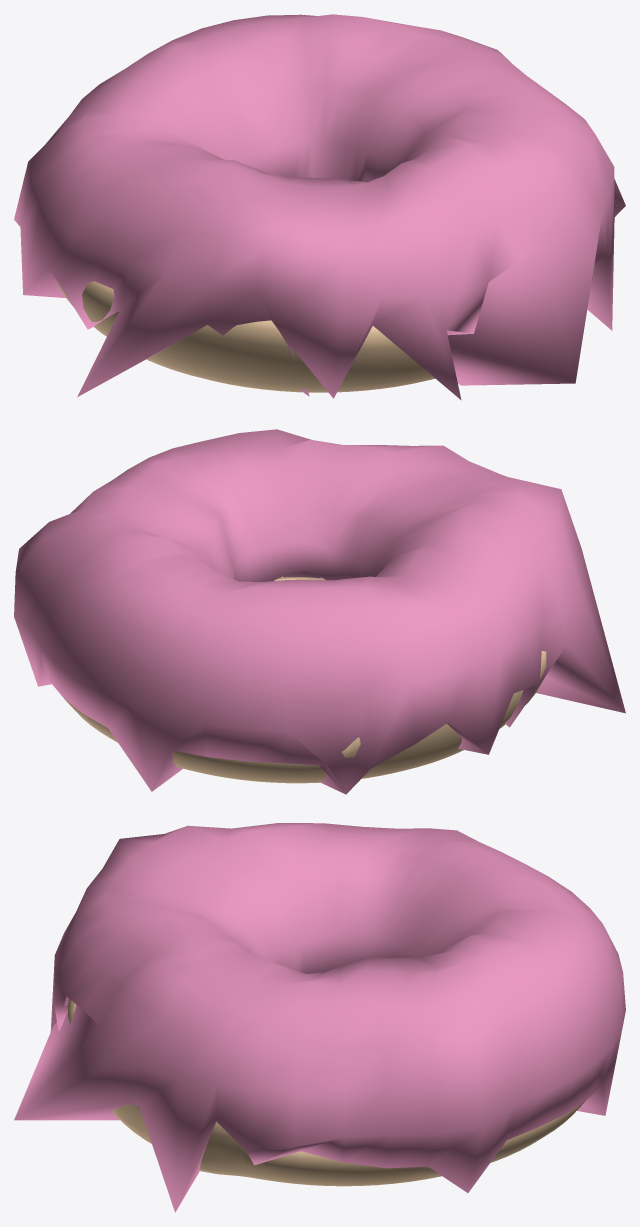
File: Donut.glb
3 renders of one model, top to bottom at view 1: azimuth 30°, elevation 25°; view 2: azimuth 150°, elevation 25°; view 3: azimuth 270°, elevation 25°, orthographic. The views are drawn at different scales.
Visible parts, largest first — view 1: Frosting, Donut; view 2: Frosting, Donut; view 3: Frosting, Donut.
Part boxes in pixels (bbox=[...]): Frosting: bbox=[14, 14, 625, 400]; Donut: bbox=[57, 265, 594, 392]; Frosting: bbox=[14, 429, 625, 794]; Donut: bbox=[64, 576, 546, 783]; Frosting: bbox=[14, 823, 625, 1212]; Donut: bbox=[68, 999, 584, 1186].
Size of what is drawn, in the model's own units: 6.95 by 2.62 by 6.68.
